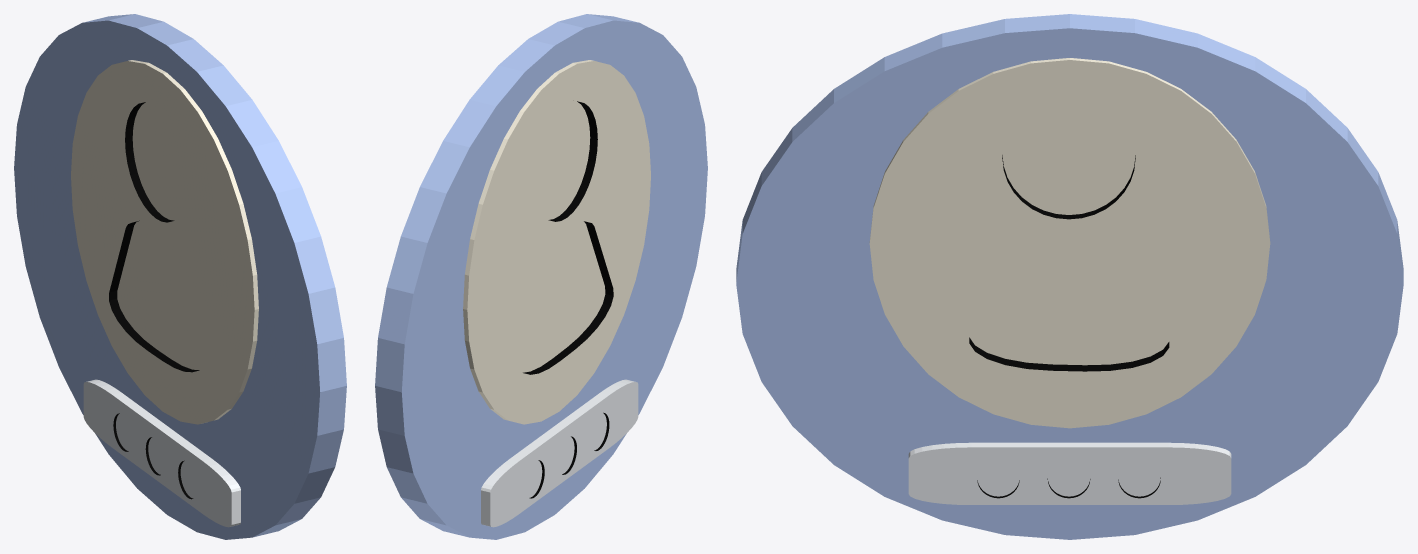
Rendered from Login.glb.
3 views of the same model, side by side, from view 1: azimuth 30°, elevation 25°; view 2: azimuth 150°, elevation 25°; view 3: azimuth 270°, elevation 25° (orthographic). The views are drawn at different scales.
Visible parts, largest first — view 1: Circle, Circle.001, Cube.001, Cube, Exterior.001; view 2: Circle, Circle.001, Cube.001, Cube, Exterior.001; view 3: Circle, Circle.001, Cube.001, Cube.
Part boxes in pixels (x1,y1,x2,y2): Circle: (14, 14, 346, 539); Circle.001: (71, 60, 258, 424); Cube.001: (83, 379, 240, 527); Cube: (109, 220, 199, 372); Exterior.001: (125, 102, 174, 222); Circle: (375, 14, 707, 539); Circle.001: (463, 60, 650, 424); Cube.001: (481, 379, 638, 527); Cube: (523, 221, 613, 374); Exterior.001: (548, 101, 597, 221); Circle: (736, 14, 1403, 539); Circle.001: (869, 58, 1270, 428); Cube.001: (908, 442, 1231, 504); Cube: (969, 337, 1169, 371).
Size of the model in its own units: 0.3764 by 3.06 by 3.61.
